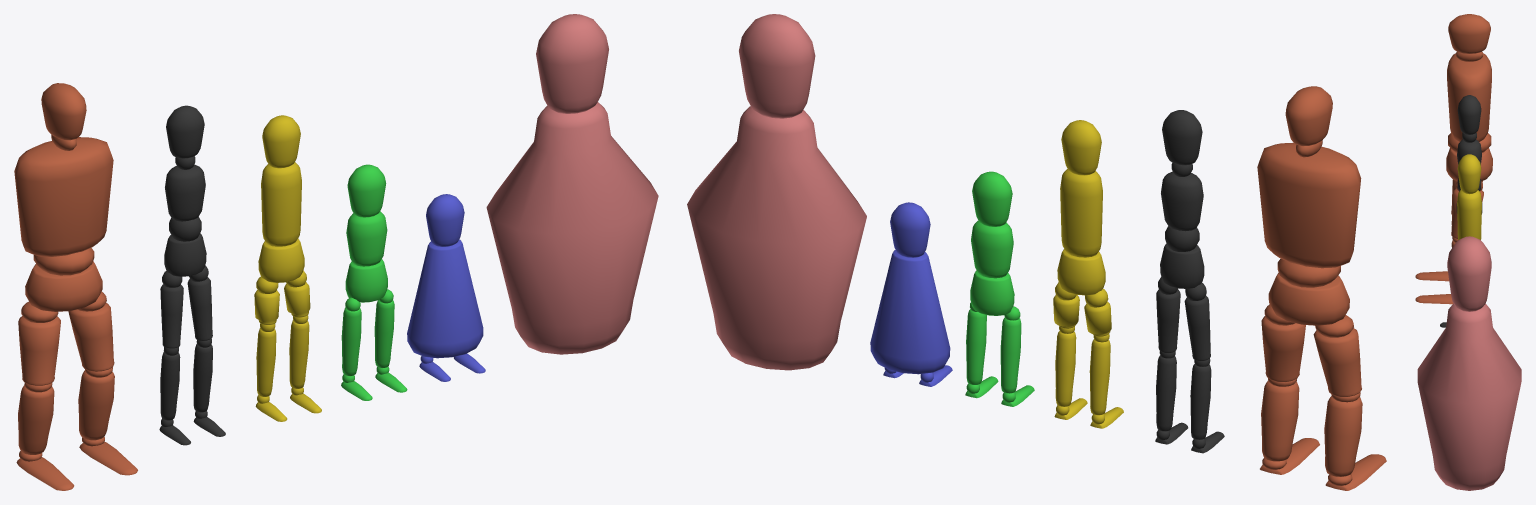
Rendered from folks.fbx.
The picture shows the model from 3 angles, left to right: view 1: azimuth 30°, elevation 25°; view 2: azimuth 150°, elevation 25°; view 3: azimuth 270°, elevation 25°; orthographic projection. The views are drawn at different scales.
Parts seen in each view (by area): view 1: Stranger_1_1, Stranger_1_5, Stranger_1, Stranger_1_2, Stranger_1_4, Stranger_1_3; view 2: Stranger_1_1, Stranger_1_5, Stranger_1, Stranger_1_2, Stranger_1_4, Stranger_1_3; view 3: Stranger_1_1, Stranger_1_5, Stranger_1_2, Stranger_1.
Boxes of the visible parts, box(x1,y1,x2,y2) form: Stranger_1_1: box(486, 14, 658, 354); Stranger_1_5: box(14, 83, 137, 490); Stranger_1: box(159, 105, 225, 445); Stranger_1_2: box(254, 115, 321, 421); Stranger_1_4: box(407, 194, 485, 381); Stranger_1_3: box(341, 164, 407, 400); Stranger_1_1: box(687, 14, 866, 370); Stranger_1_5: box(1257, 86, 1386, 490); Stranger_1: box(1155, 110, 1224, 453); Stranger_1_2: box(1053, 120, 1123, 428); Stranger_1_4: box(870, 202, 952, 386); Stranger_1_3: box(965, 171, 1034, 406); Stranger_1_1: box(1417, 236, 1521, 490); Stranger_1_5: box(1415, 14, 1492, 304); Stranger_1_2: box(1457, 154, 1481, 239); Stranger_1: box(1440, 95, 1482, 327).
Bounding box in the file's own units: 333 × 190 × 65.28.
